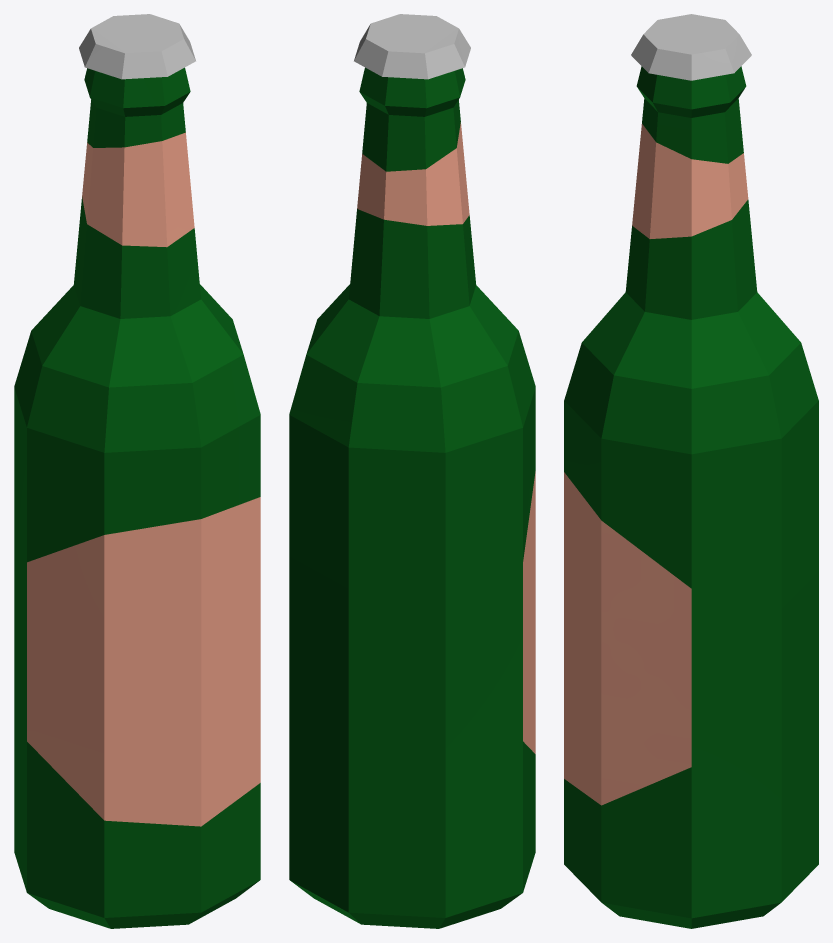
Rendered from drink_003.glb.
3 views of the same model, side by side, from view 1: azimuth 30°, elevation 25°; view 2: azimuth 150°, elevation 25°; view 3: azimuth 270°, elevation 25° (orthographic).
Visible parts, largest first — view 1: drink_003; view 2: drink_003; view 3: drink_003.
Part boxes in pixels (x1,y1,x2,y2): drink_003: [14, 14, 260, 928]; drink_003: [289, 14, 535, 928]; drink_003: [564, 14, 818, 928].
Size of the model in its own units: 0.0613 by 0.226 by 0.0613.
1 material, 1 textured.
